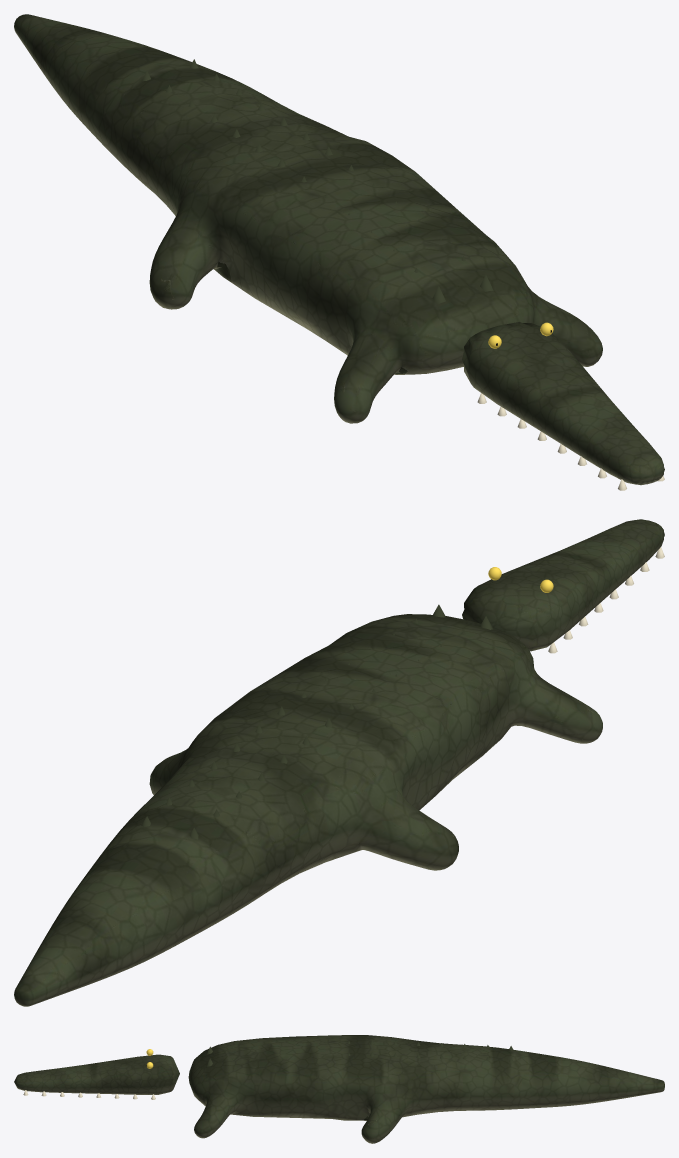
Rendered from deinosuchus.glb.
3 views of the same model, one above another, from view 1: azimuth 30°, elevation 25°; view 2: azimuth 150°, elevation 25°; view 3: azimuth 270°, elevation 25° (orthographic). The views are drawn at different scales.
Parts seen in each view (by area): view 1: deinosuchus; view 2: deinosuchus; view 3: deinosuchus.
Boxes of the visible parts, x1=… form: deinosuchus: x1=14, y1=14, x2=664, y2=490; deinosuchus: x1=14, y1=519, x2=664, y2=1006; deinosuchus: x1=14, y1=1035, x2=664, y2=1143.
Size of the model in its own units: 2.57 by 1 by 9.29.
Materials: 6 (2 with a texture image).
